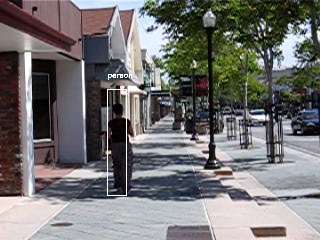person: (108, 104, 138, 198), (107, 104, 137, 198), (109, 104, 139, 198), (108, 103, 138, 197), (108, 105, 138, 199)
target_negative: (253, 137, 295, 233), (218, 110, 247, 232), (93, 117, 178, 140), (132, 218, 224, 232), (233, 128, 239, 211), (303, 153, 304, 197)
